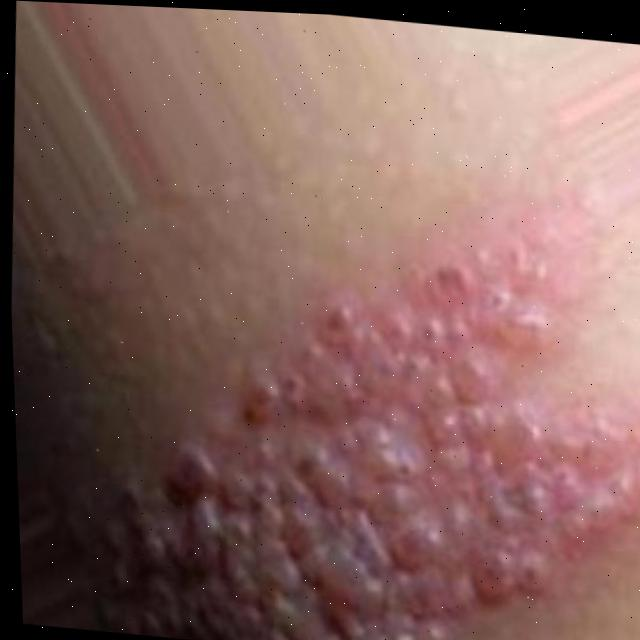Shingles: (139, 216, 640, 640)
